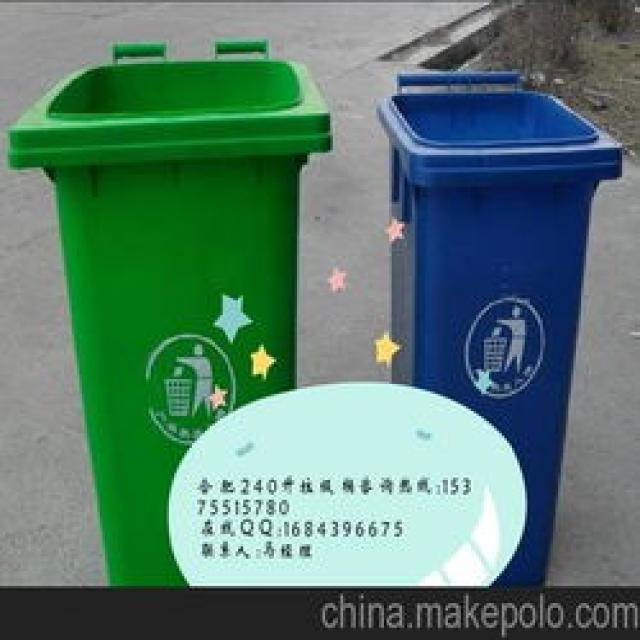garbage_bin: (5, 34, 330, 578), (376, 66, 620, 578)
